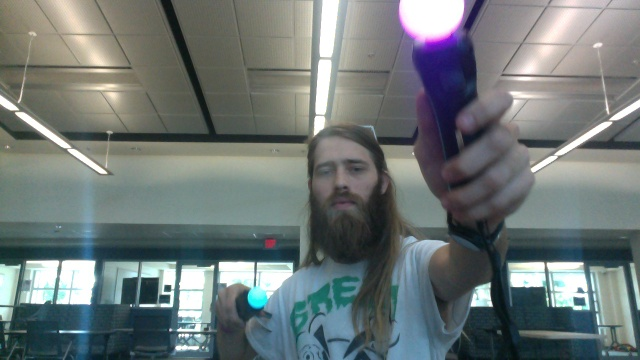wand: (398, 1, 464, 44), (248, 286, 268, 308)
